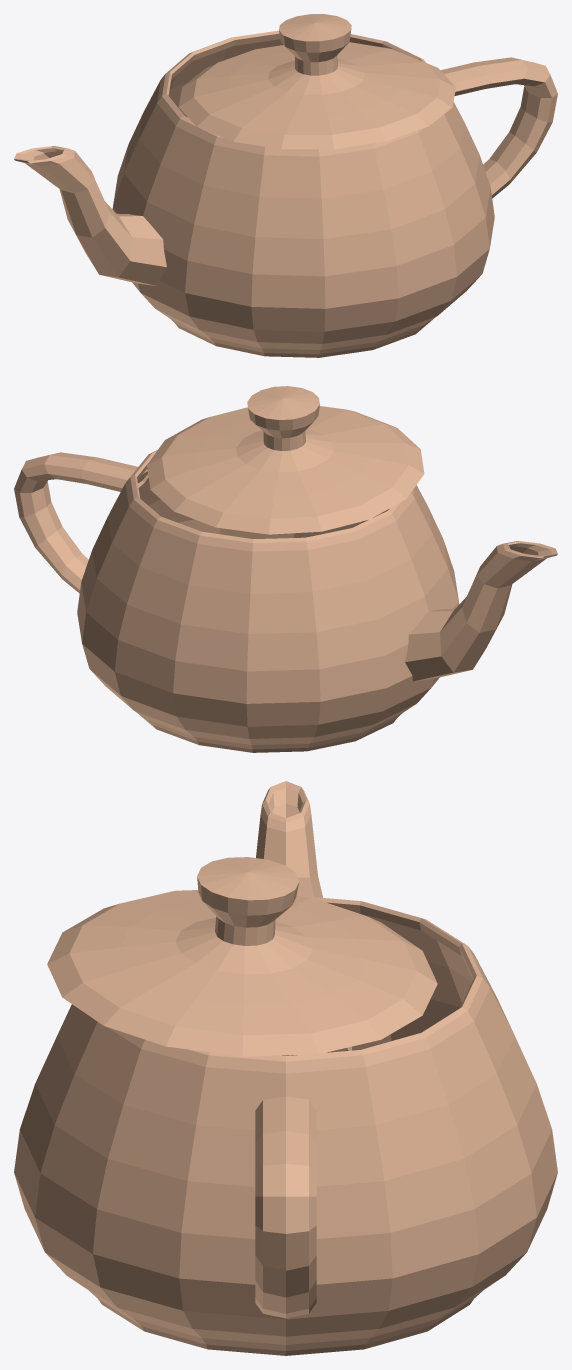
The model's file is teapot.glb.
3 views of the same model, one above another, from view 1: azimuth 30°, elevation 25°; view 2: azimuth 150°, elevation 25°; view 3: azimuth 270°, elevation 25° (orthographic). The views are drawn at different scales.
Visible parts, largest first — view 1: entity_3; view 2: entity_3; view 3: entity_3.
Part boxes in pixels (x1,y1,x2,y2): entity_3: (14,14,557,357); entity_3: (14,386,557,752); entity_3: (14,781,557,1355).
Bounding box in the file's own units: 132114 × 68600 × 82210.
